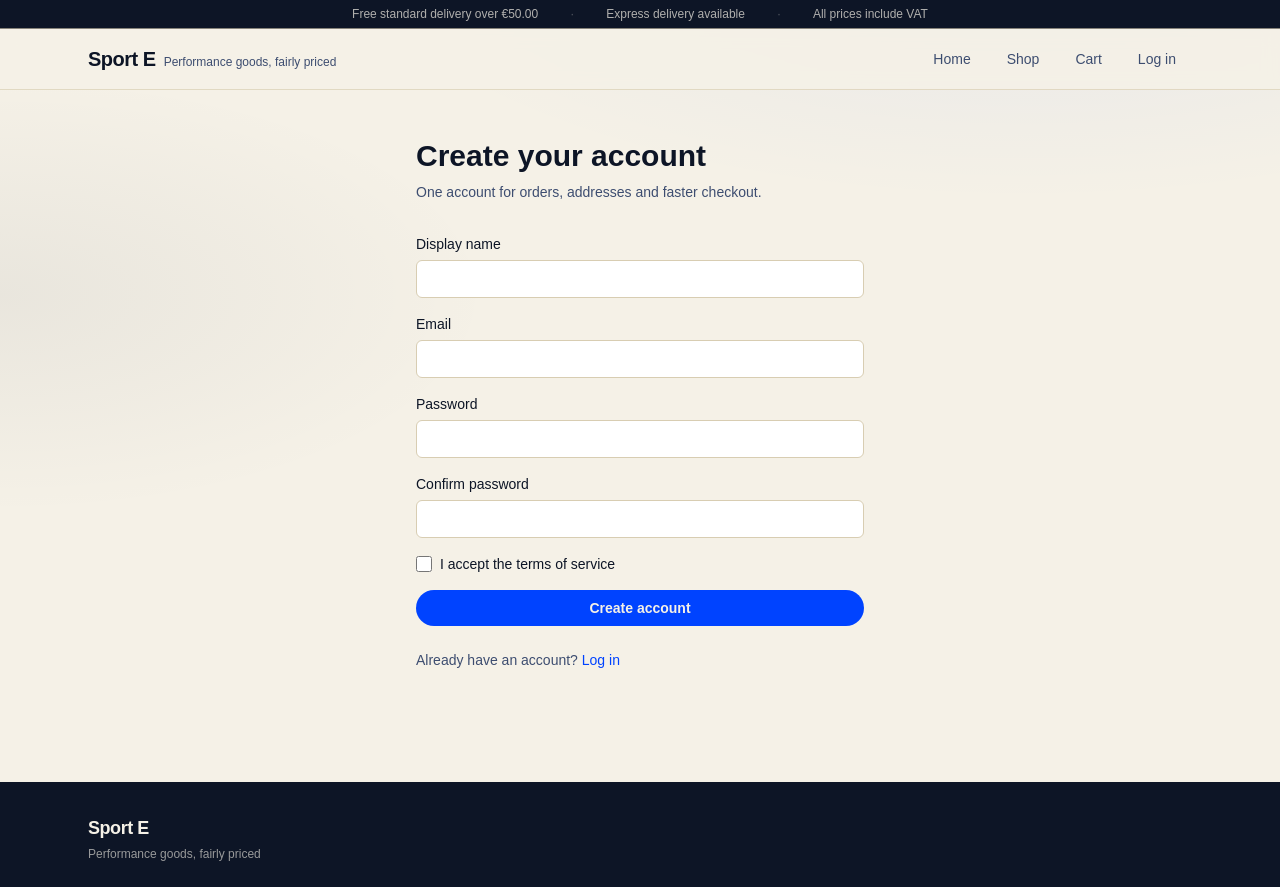
identity pages › registers, installs the returned context and opens the profile
Type "Flow User" into the field labelled "Display name" at (640, 279), box [416,260,864,298]
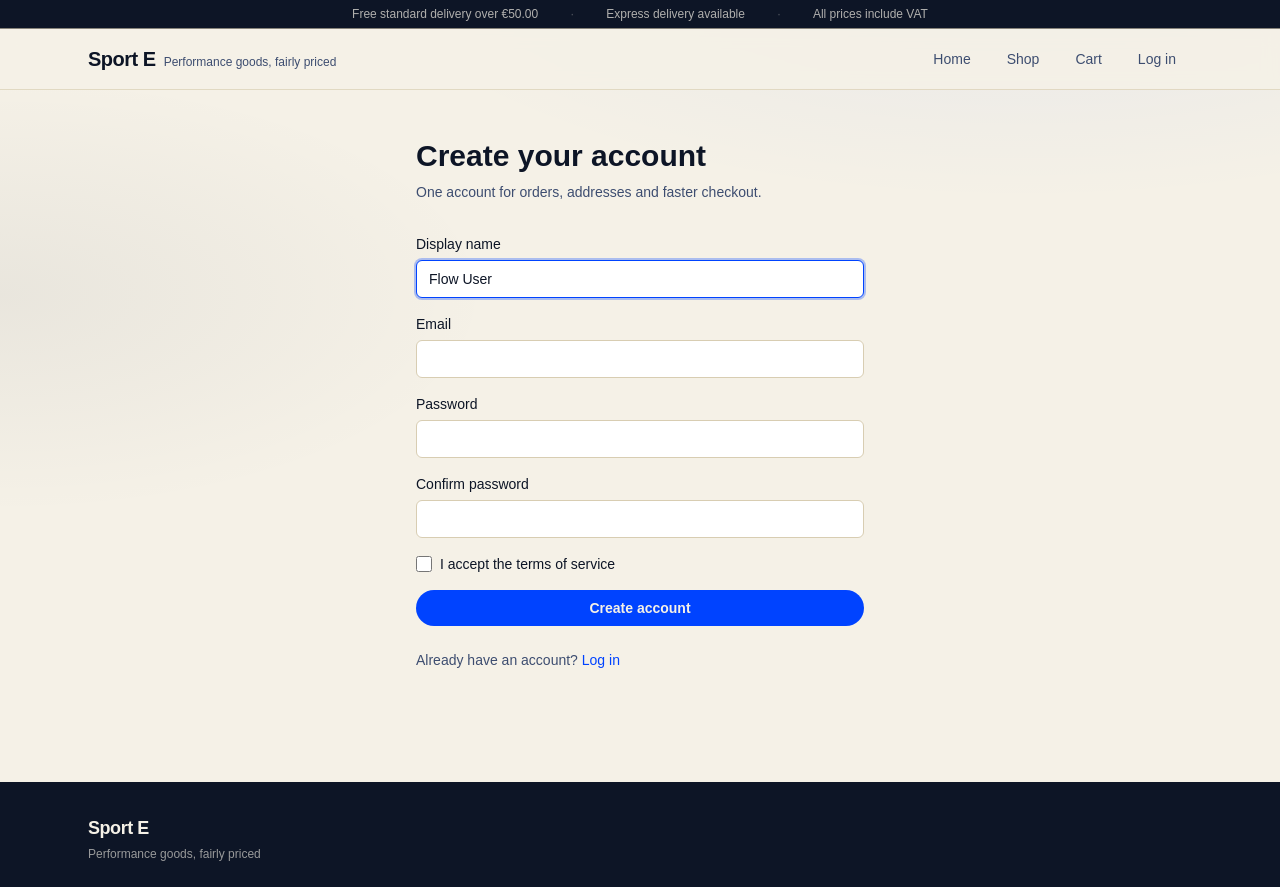
Type "flow@example.test" into the field labelled "Email" at (640, 359), box [416,340,864,378]
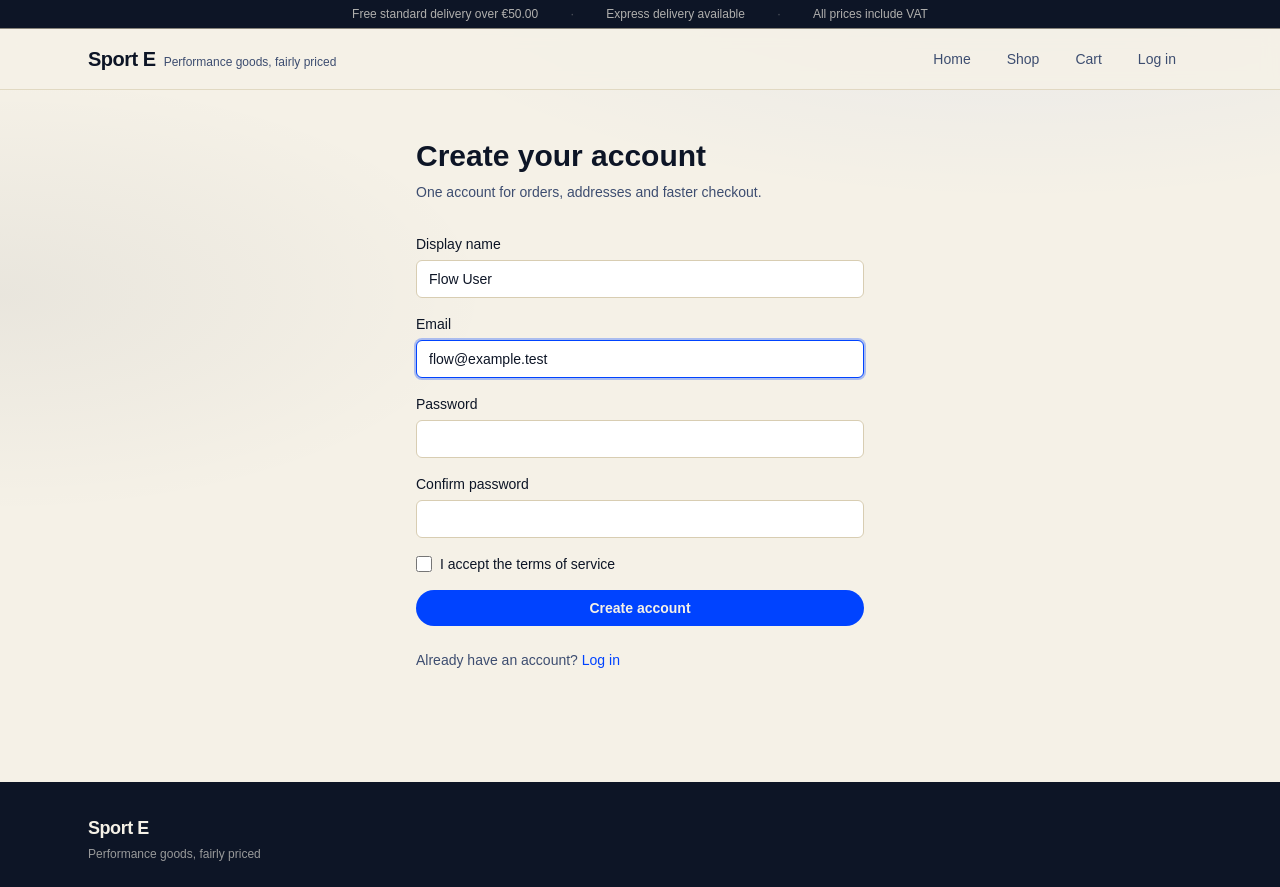
Type "Sport-E!2026" into the password field labelled "Password" at (640, 439), box [416,420,864,458]
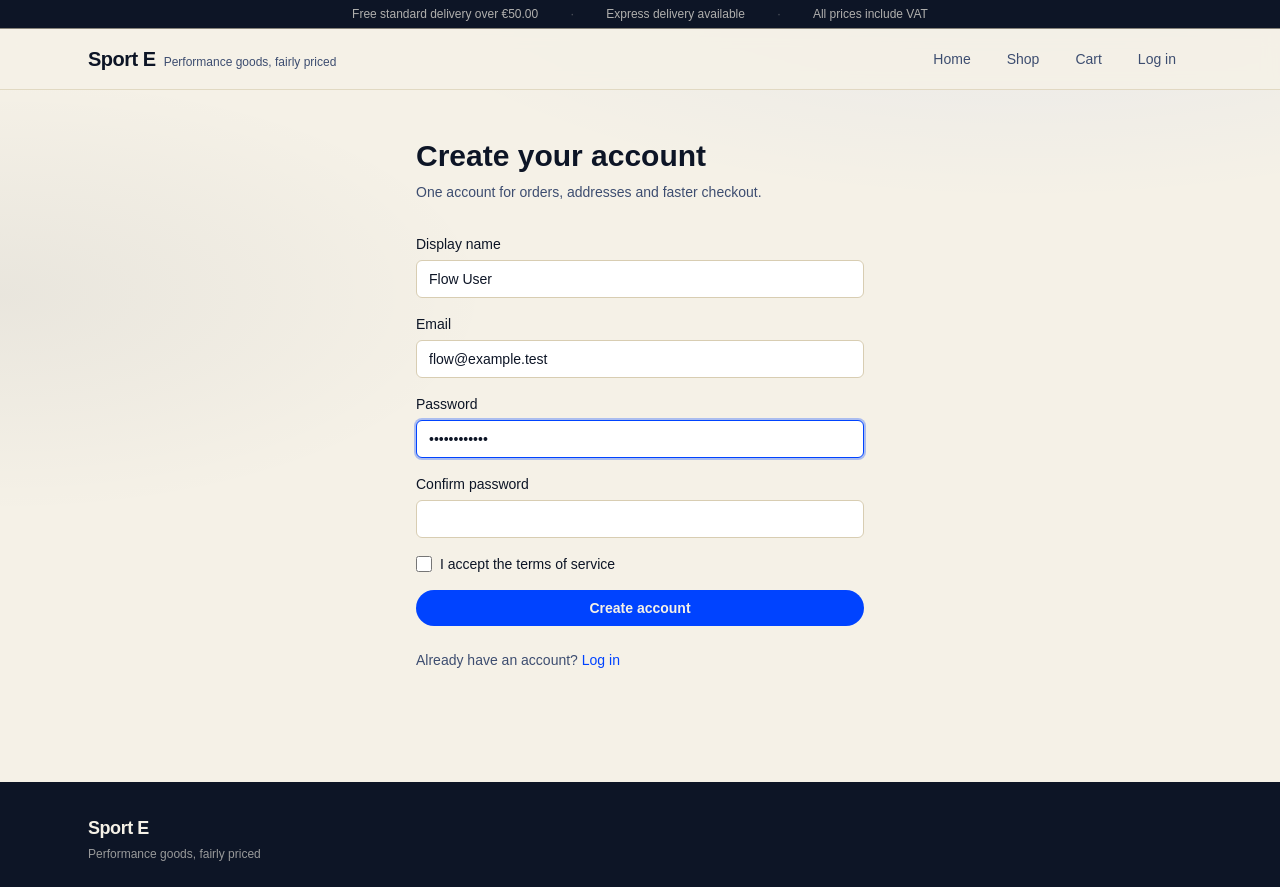
Type "Sport-E!2026" into the password field labelled "Confirm password" at (640, 519), box [416,500,864,538]
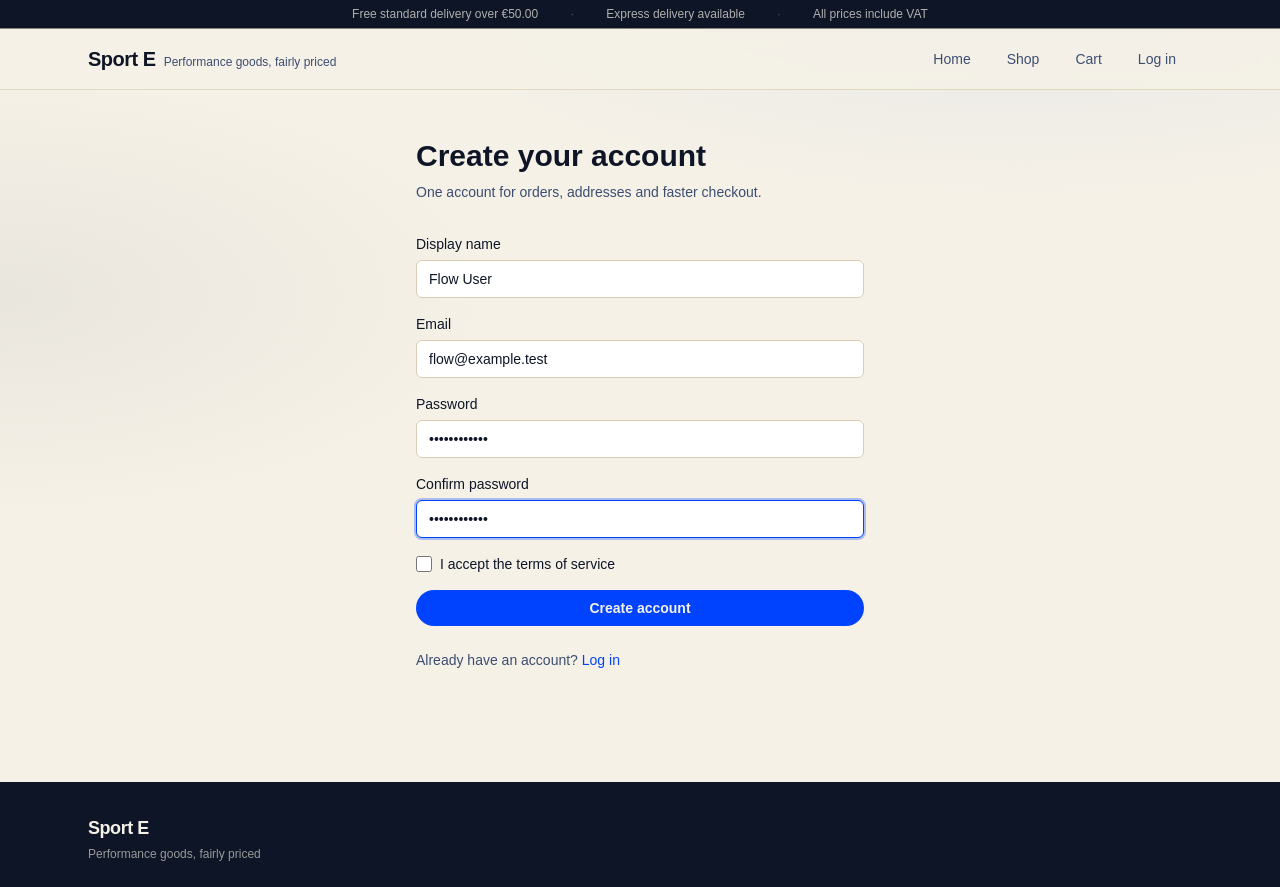
Click the checkbox labelled "I accept the terms of service" at (424, 564), box [416,556,432,572]
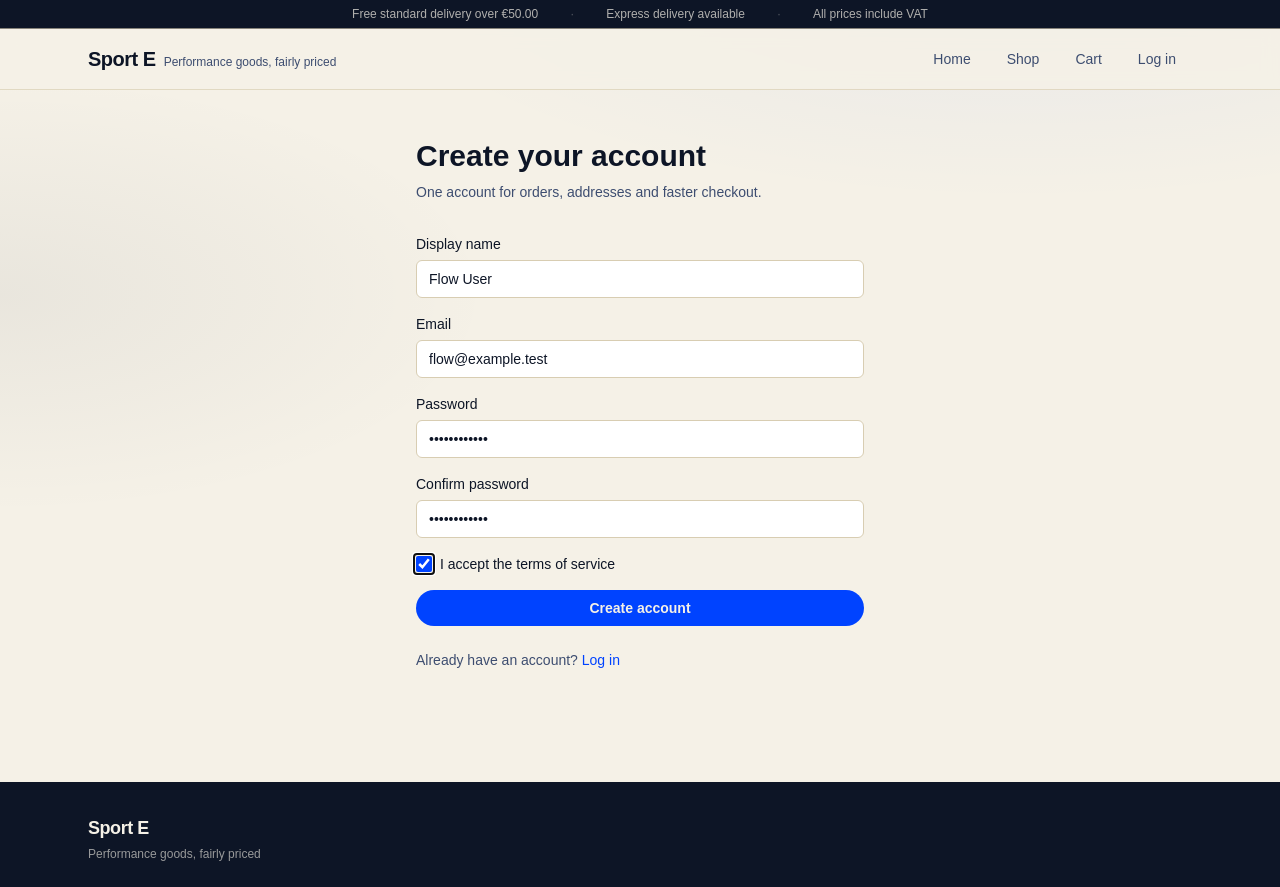
Click the button "Create account" at (640, 608), box [416,590,864,626]
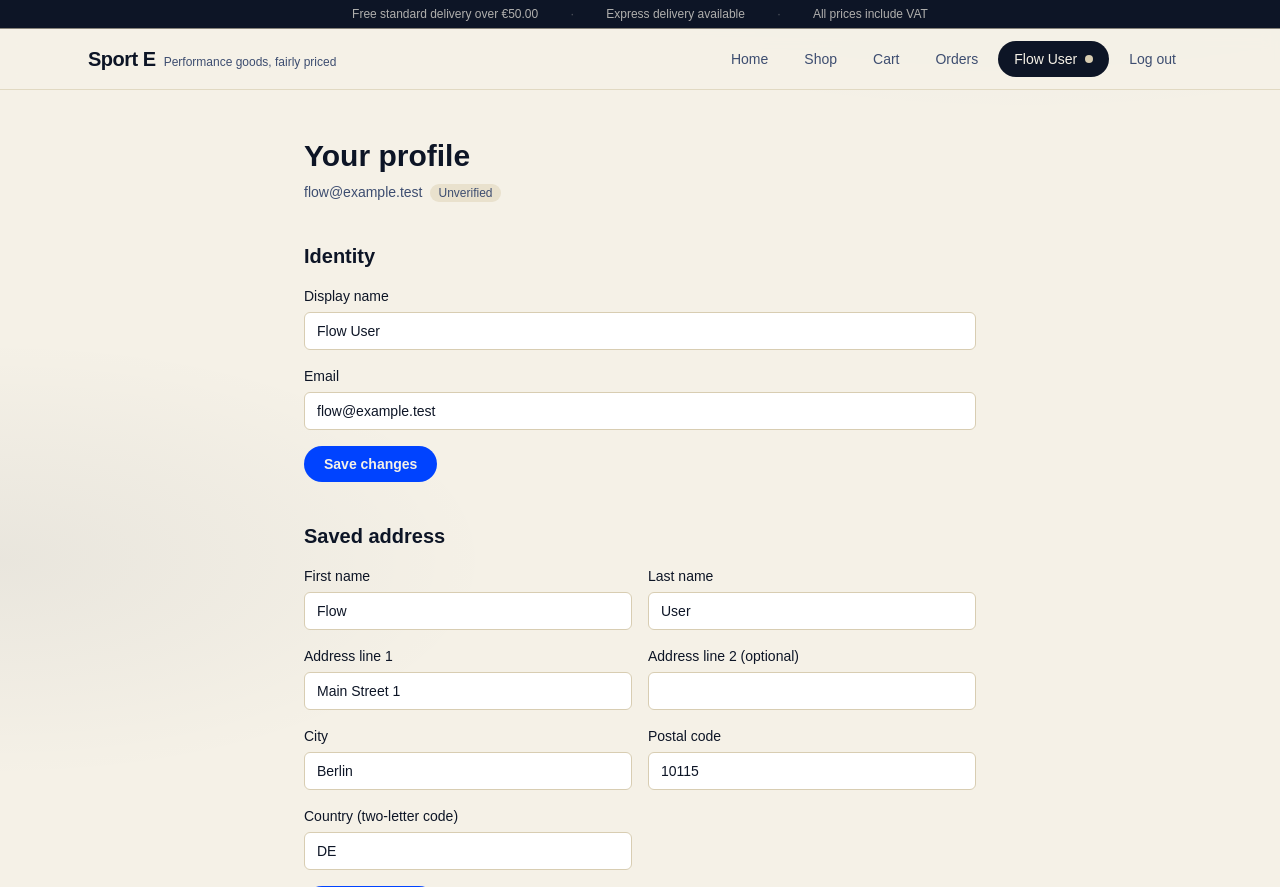
Check: the heading "Your profile" is shown, box [304,139,470,172]
